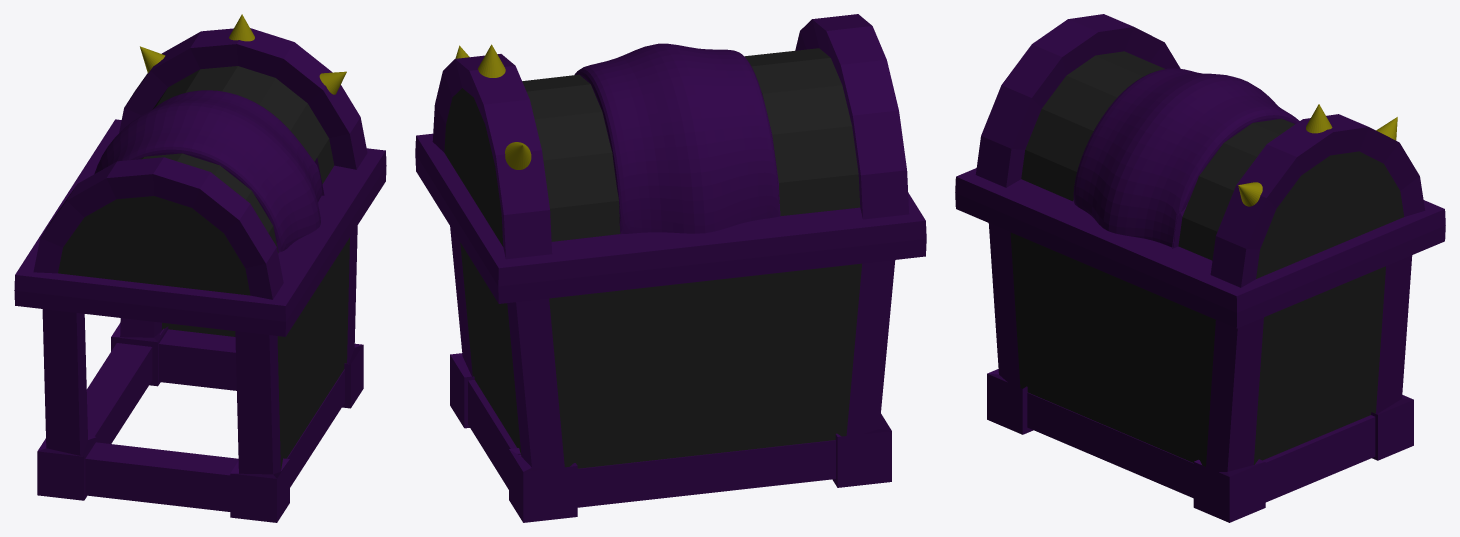
The model's file is chest_1.glb.
3 views of the same model, side by side, from view 1: azimuth 30°, elevation 25°; view 2: azimuth 150°, elevation 25°; view 3: azimuth 270°, elevation 25° (orthographic). The views are drawn at different scales.
Parts seen in each view (by area): view 1: box.001, cover.001, spike.001; view 2: box.001, cover.001, spike.001; view 3: box.001, cover.001, spike.001.
Boxes of the visible parts, <box> form: box.001: <box>14,28,386,522</box>; cover.001: <box>94,90,321,252</box>; spike.001: <box>140,14,346,94</box>; box.001: <box>415,14,926,522</box>; cover.001: <box>574,43,779,234</box>; spike.001: <box>455,44,531,169</box>; box.001: <box>955,14,1445,522</box>; cover.001: <box>1073,68,1299,247</box>; spike.001: <box>1238,104,1397,206</box>.
Bounding box in the file's own units: 1.44 × 1.23 × 1.44.
